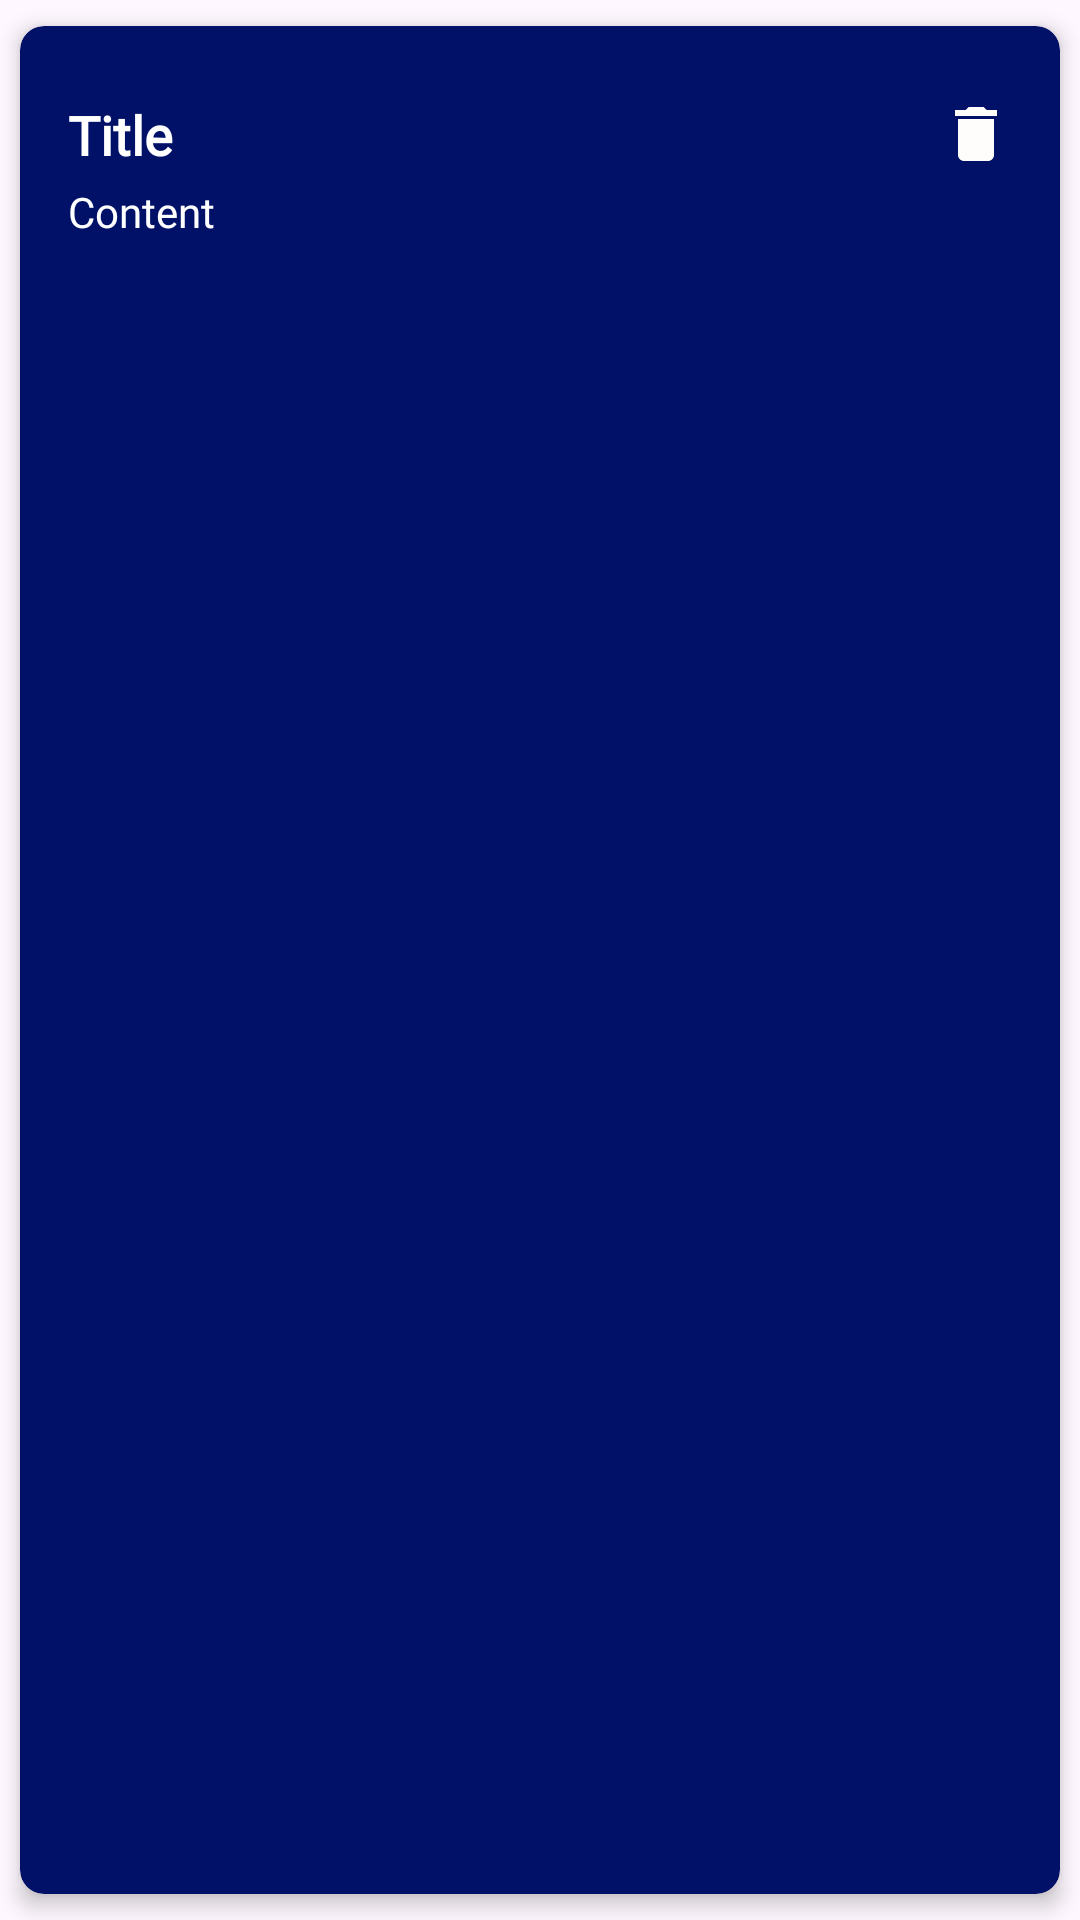

Icons on this 1080px x 1920px Android screen, each with its box as (x1, y1, x2, y2):
delete: (955, 107, 997, 161)
